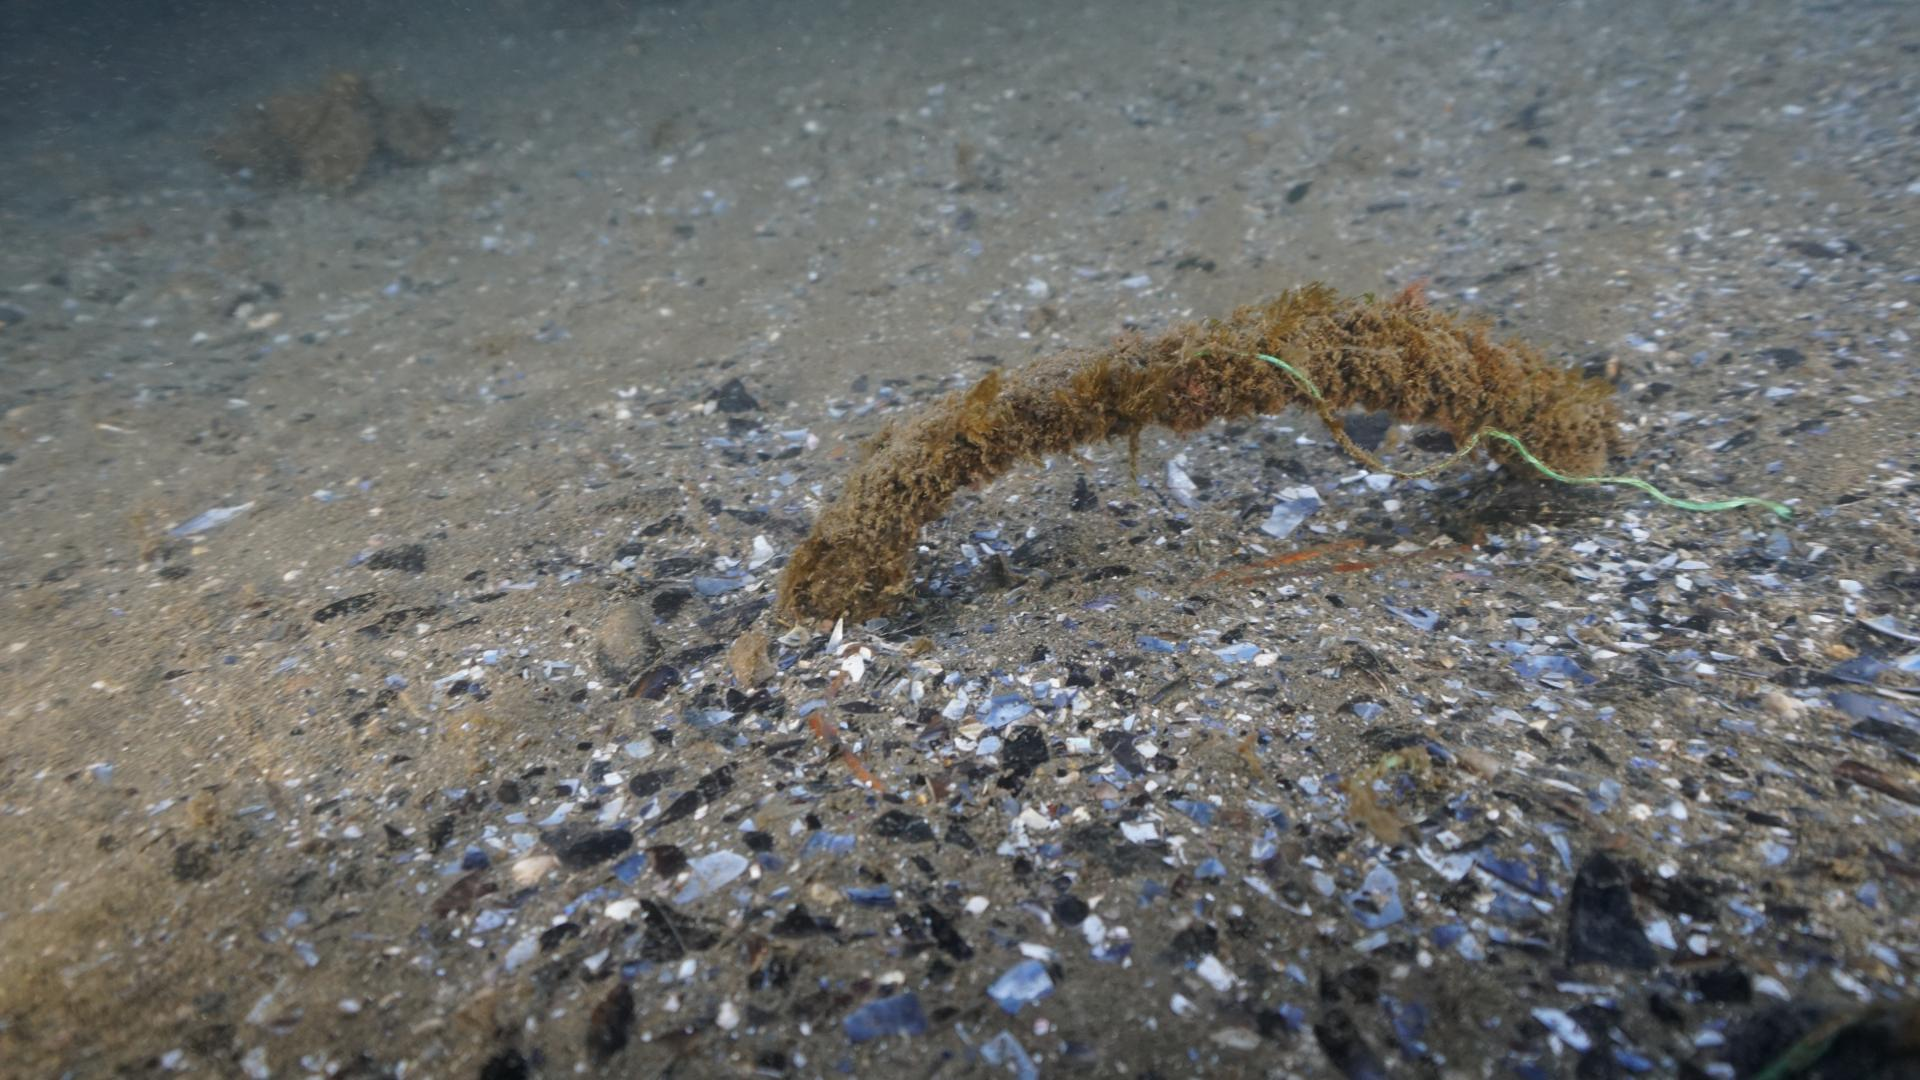rope: (774, 289, 1611, 617)
